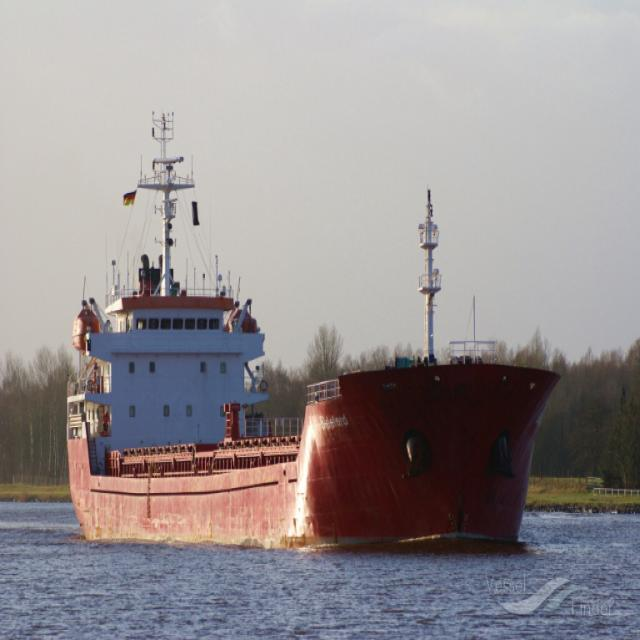OCR: (314, 408, 349, 435)
